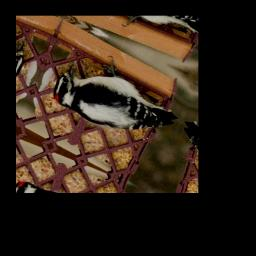Woodpecker: (49, 39, 188, 154)
